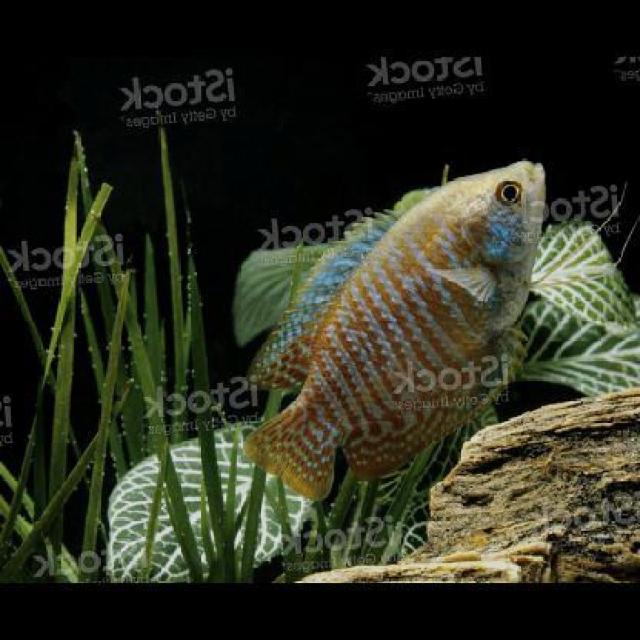Gourami: (240, 155, 548, 494)
